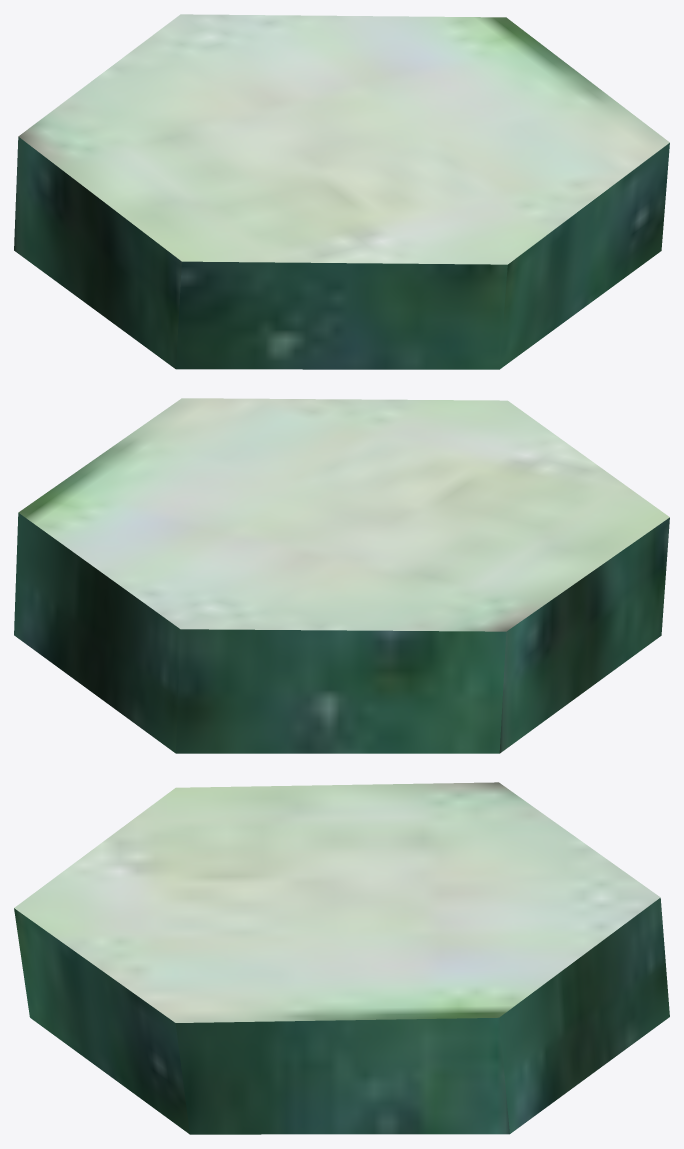
File: Cucumber_03.glb
3 views of the same model, one above another, from view 1: azimuth 30°, elevation 25°; view 2: azimuth 150°, elevation 25°; view 3: azimuth 270°, elevation 25° (orthographic).
Visible parts, largest first — view 1: Cucumber_03; view 2: Cucumber_03; view 3: Cucumber_03.
Part boxes in pixels (box(x1,y1,x2,y2)): Cucumber_03: box(14, 14, 669, 369); Cucumber_03: box(14, 398, 669, 753); Cucumber_03: box(14, 782, 669, 1134).
Bounding box in the file's own units: 0.0692 × 0.0165 × 0.0815.
1 material, 1 textured.
